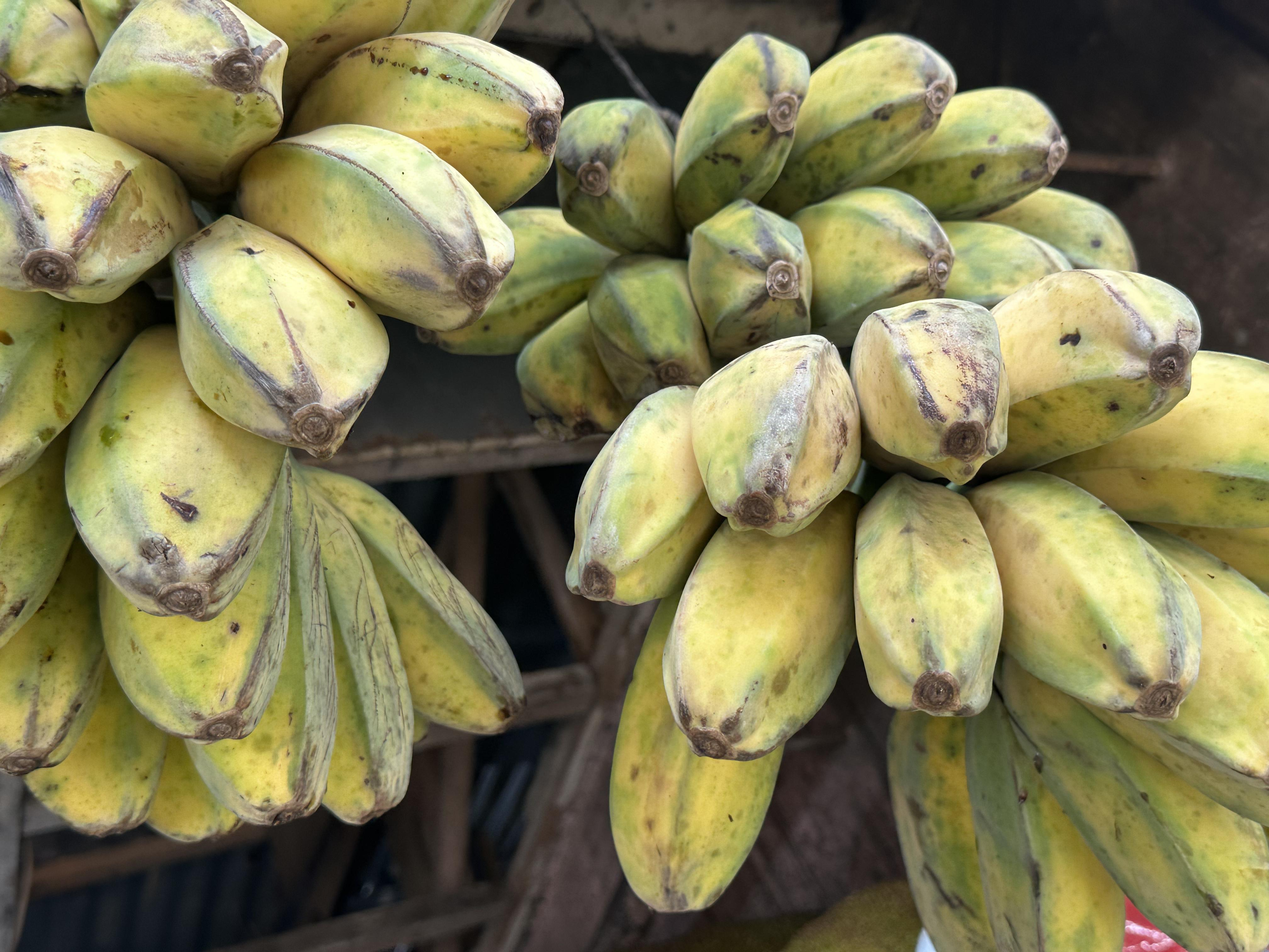underripe: (0, 0, 567, 846), (564, 268, 1269, 918), (415, 32, 1138, 445), (882, 519, 1269, 952)
